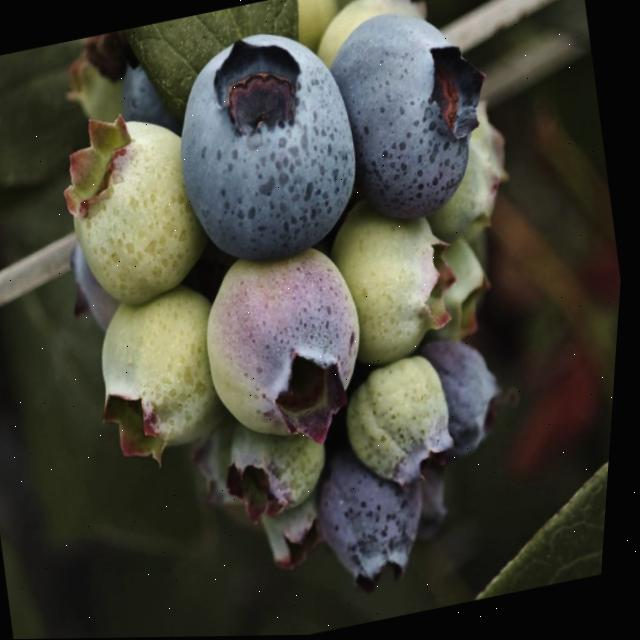RipeBlueBerry: (153, 12, 385, 283), (321, 0, 511, 235)
UnripeBlueBerry: (189, 233, 392, 459), (49, 100, 222, 320), (88, 282, 251, 467), (321, 186, 469, 370), (343, 354, 468, 484)
